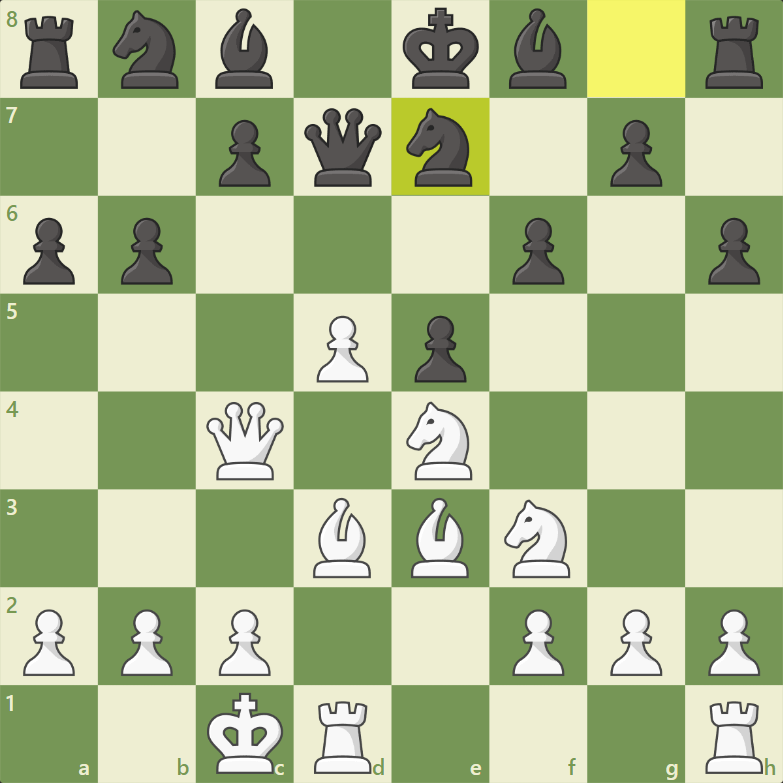B: (308, 496, 375, 582), (408, 495, 472, 581)
K: (203, 691, 285, 777)
N: (500, 498, 575, 582), (404, 399, 476, 484)
P: (312, 313, 373, 387), (18, 607, 79, 680), (114, 605, 175, 678), (214, 605, 275, 678), (507, 606, 568, 679), (605, 605, 666, 678), (704, 606, 765, 679)
Q: (203, 398, 286, 484)
R: (701, 699, 768, 777), (312, 699, 376, 779)
b: (505, 6, 572, 93), (213, 5, 277, 94)
k: (399, 4, 482, 94)
n: (402, 105, 478, 191), (109, 7, 184, 93)
p: (506, 214, 568, 289), (704, 214, 764, 290), (606, 117, 666, 191), (215, 118, 274, 191), (117, 215, 175, 289), (21, 215, 79, 289), (414, 312, 468, 386)
q: (300, 106, 385, 190)
r: (702, 11, 767, 94), (17, 12, 82, 93)
